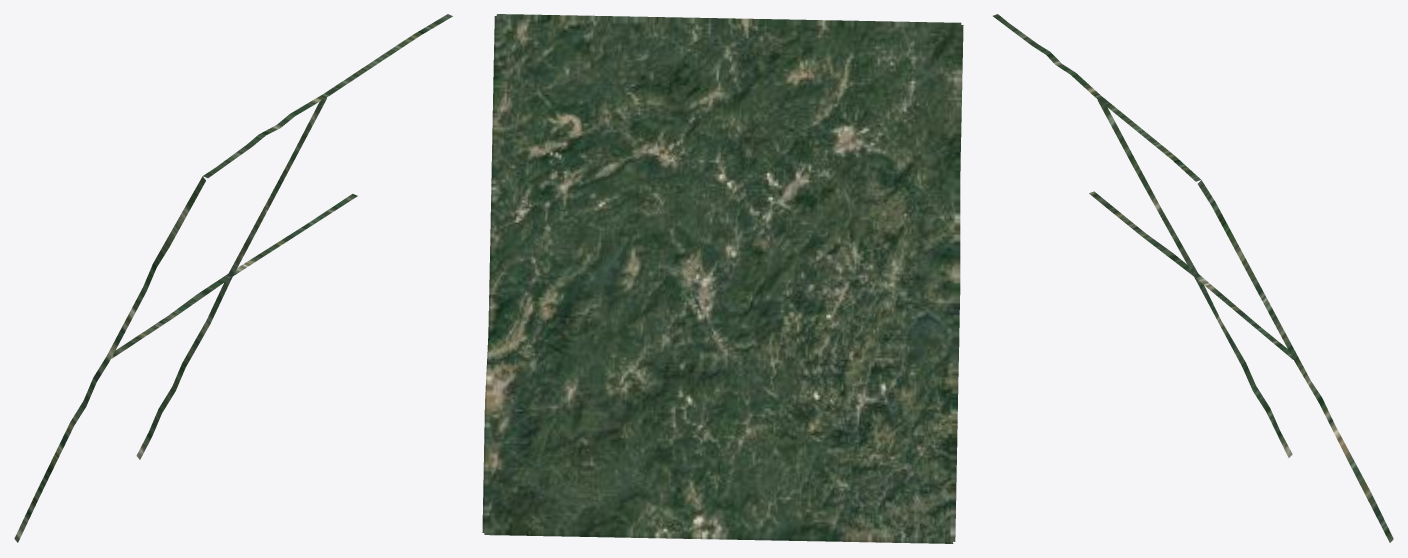
The picture shows the model from 3 angles, left to right: view 1: azimuth 30°, elevation 25°; view 2: azimuth 150°, elevation 25°; view 3: azimuth 270°, elevation 25°; orthographic projection. The views are drawn at different scales.
Bounding box in the file's own units: 158515 × 142668 × 127902.
Materials: 1 (1 with a texture image).
